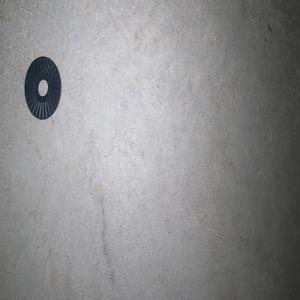Washer: (24, 56, 61, 119)
